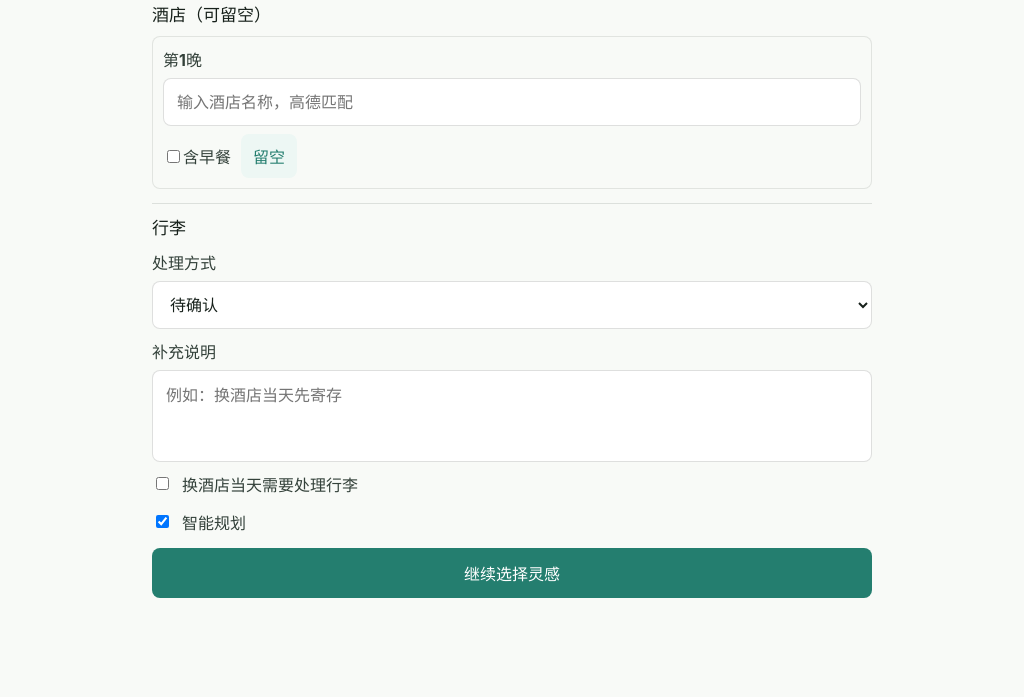
it: PlannerScreen › shows missing parameter placeholders and Confirm validation copy
(page scrolled)
Click the button "继续选择灵感".
click(512, 573)  # box x1=152 y1=548 x2=872 y2=598
(page scrolled)
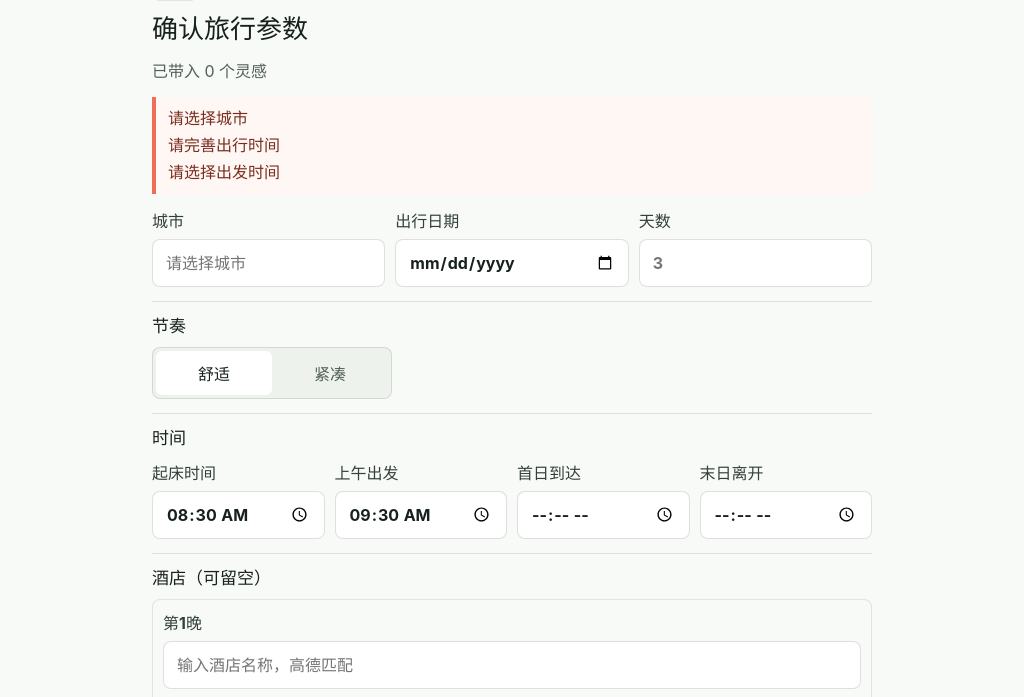
Check: the text "请选择城市" is shown, box x1=168 y1=108 x2=248 y2=128
Check: the text "请完善出行时间" is shown, box x1=168 y1=135 x2=280 y2=155
Check: the text "请选择出发时间" is shown, box x1=168 y1=162 x2=280 y2=182
